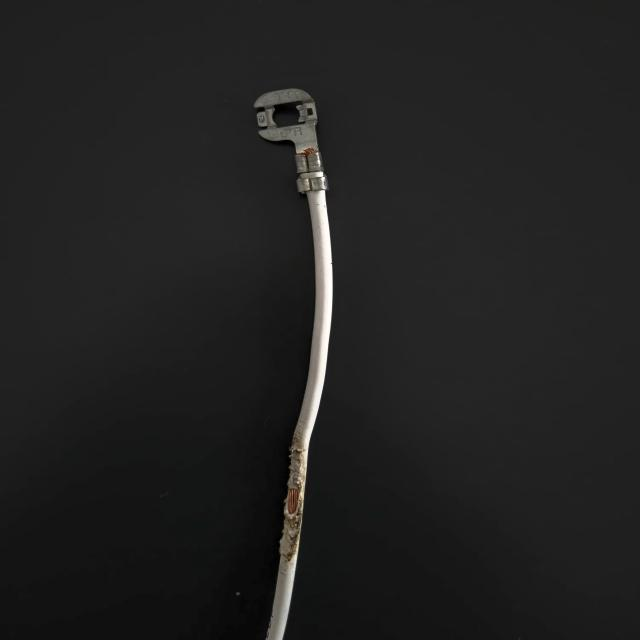defect: (236, 390, 484, 611)
